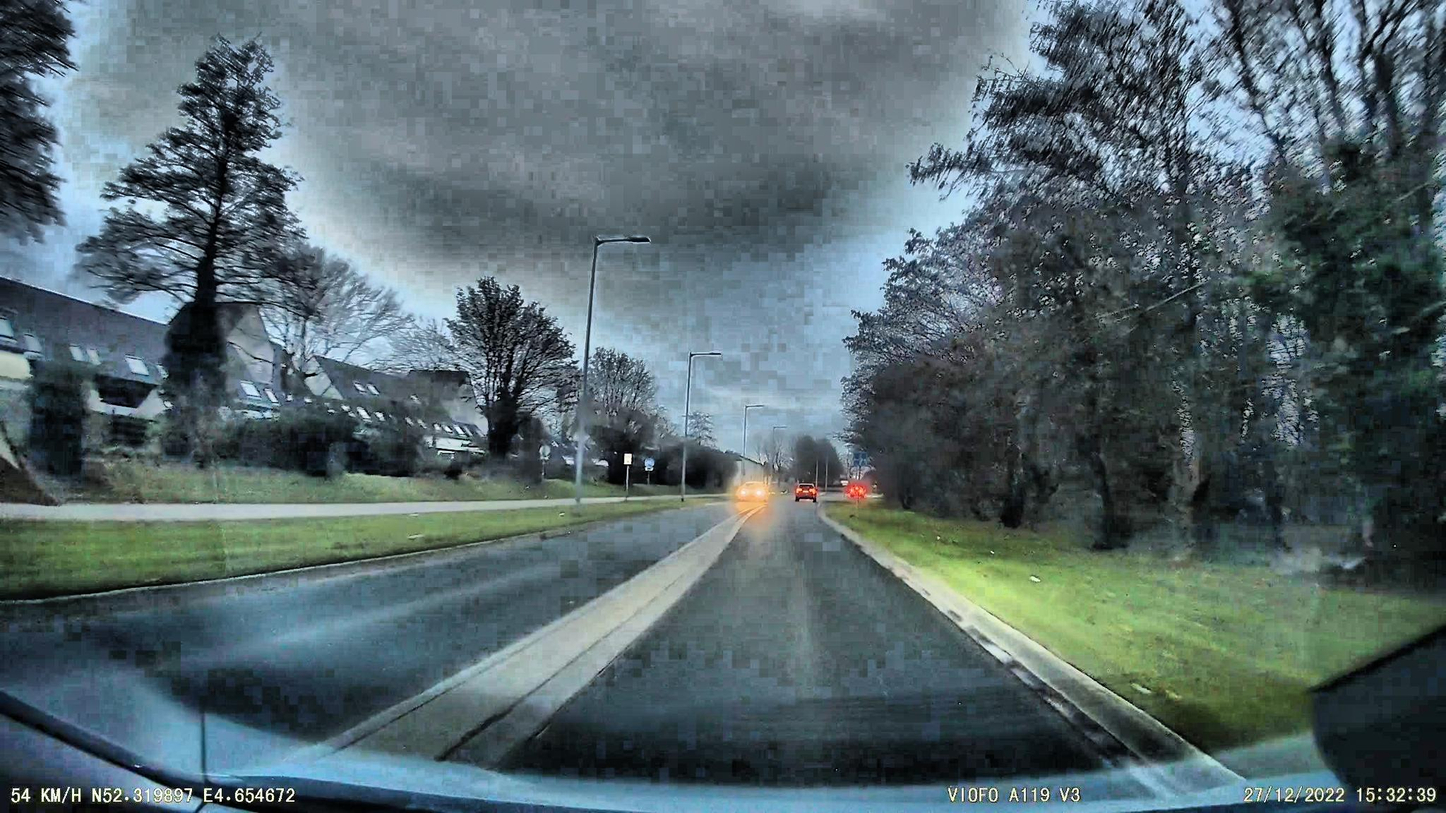Roads: (0, 500, 1354, 813)
